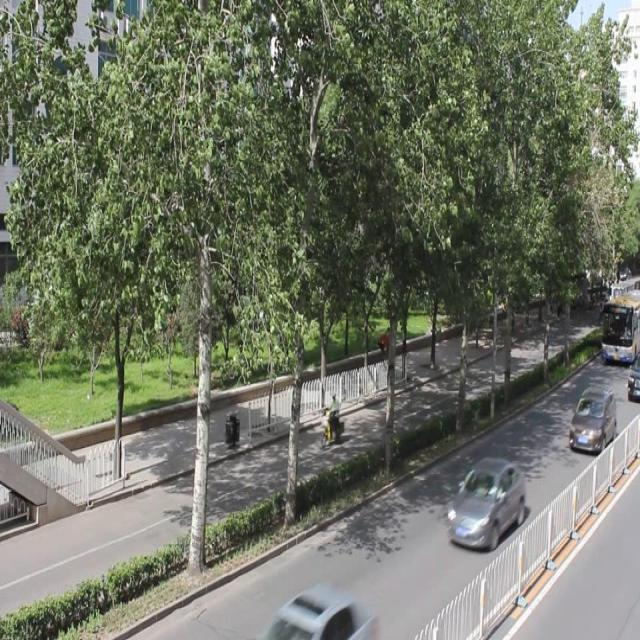car: (446, 455, 525, 551), (260, 583, 372, 640), (567, 384, 615, 453)
